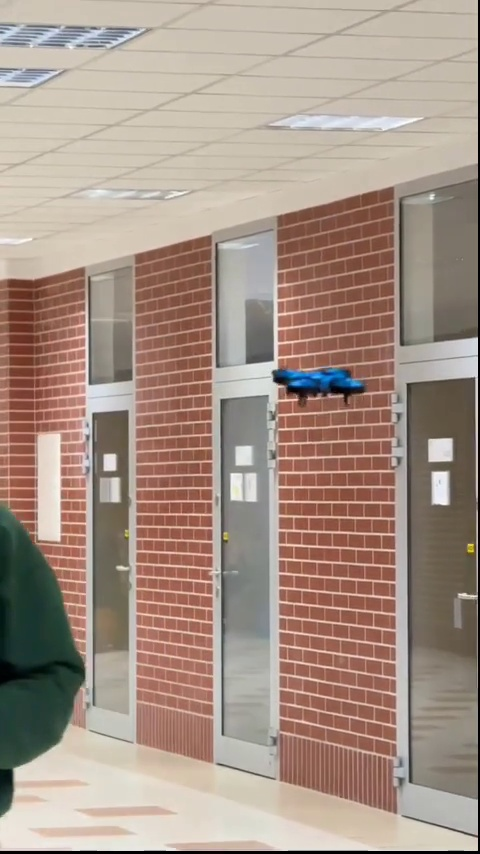drone: (271, 363, 363, 401)
